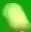white: (0, 0, 31, 32)
